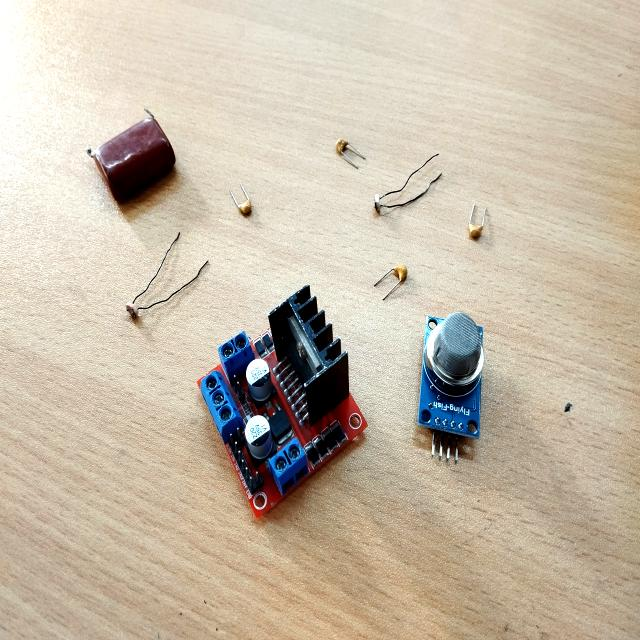capacitor: (98, 121, 176, 210), (391, 268, 407, 281), (336, 142, 347, 156), (469, 229, 481, 241), (239, 206, 251, 217)
